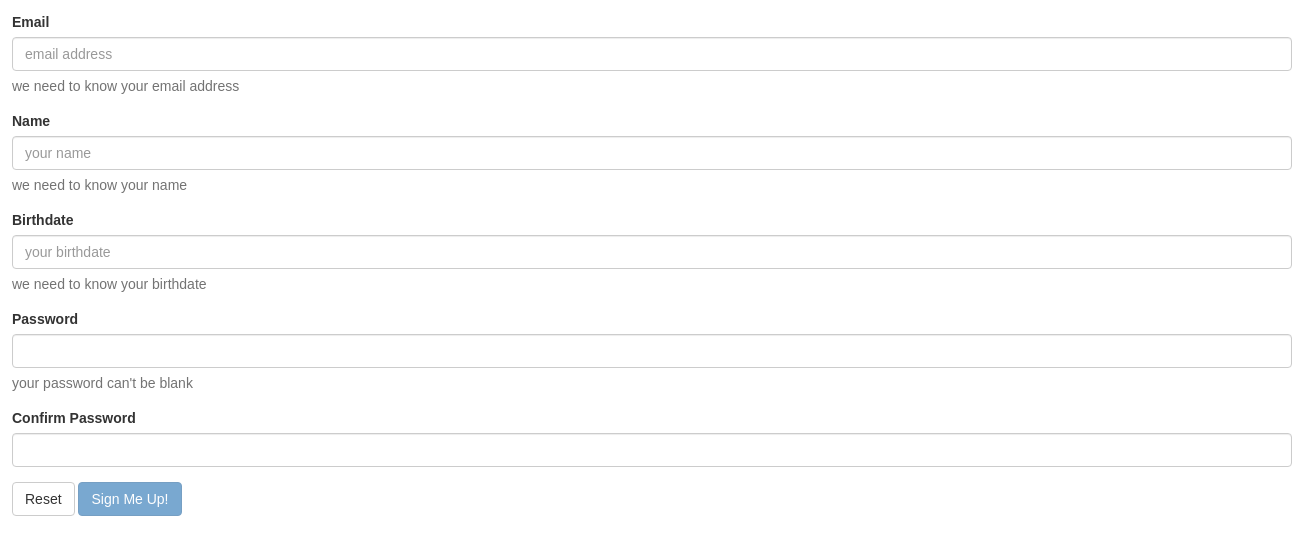
Test: Reset button › should clear confirm password form
Type "123456" into the password field labelled "Confirm Password" at [652, 450], box [12,433,1292,467]
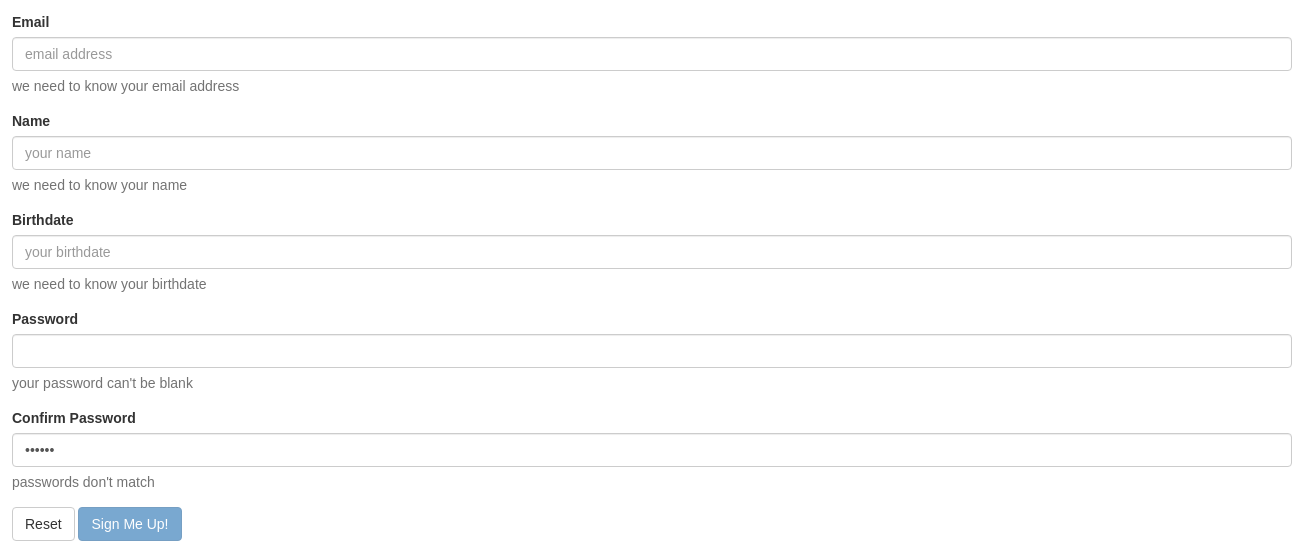
Click the button with id "resetButton" at [43, 524], box [12,507,75,541]
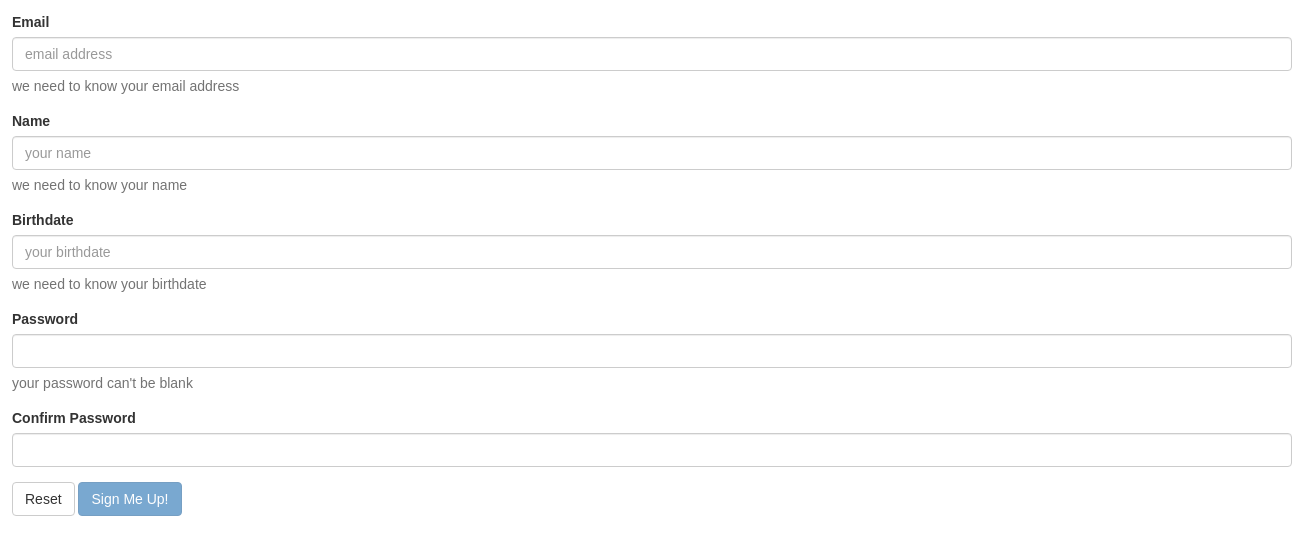
Expected: the password field labelled "Confirm Password" is empty, [12,433,1292,467]
